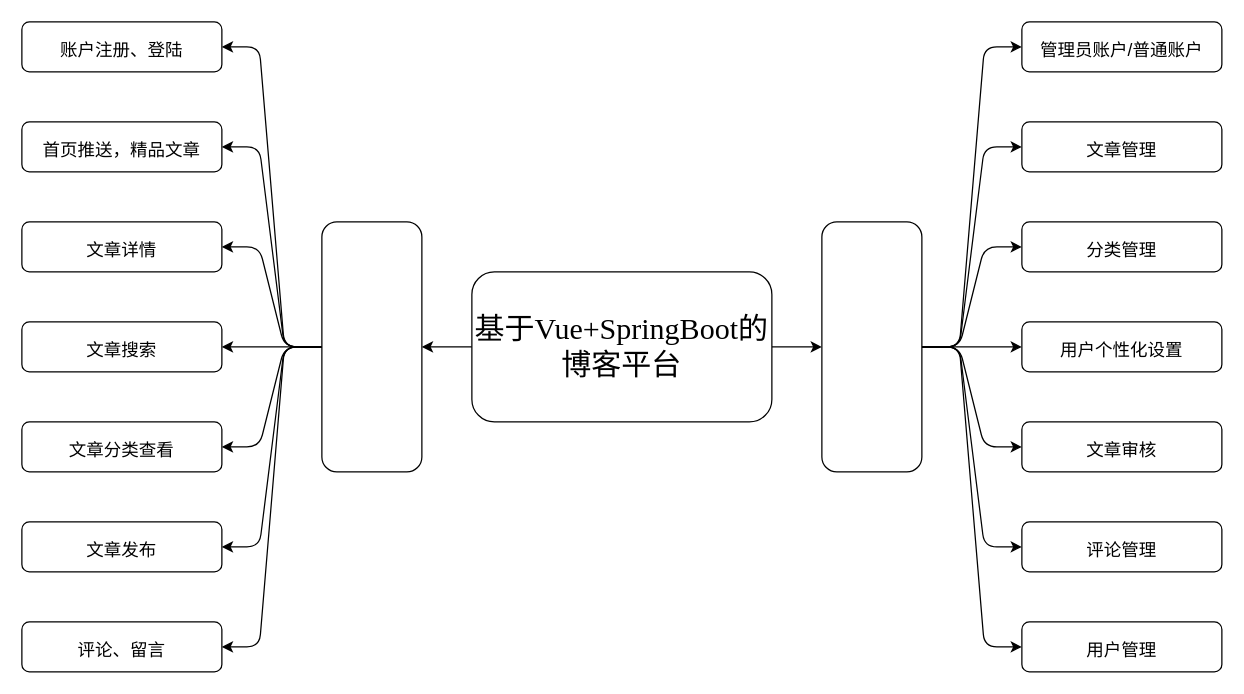
The diagram is 1244 pixels wide and 694 high, and some of its shapes have lost their labels. Each missing label, with the box of its shape:
前台: (321, 221, 422, 472)
后台: (821, 221, 922, 472)
